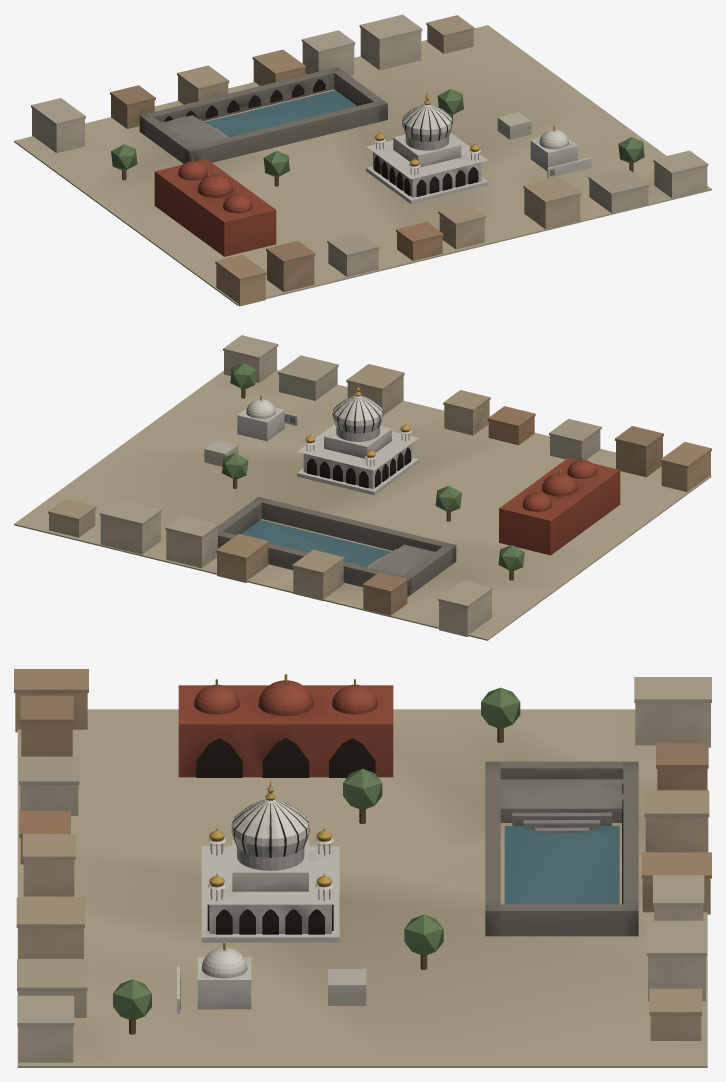
The model's file is nizamuddin.glb.
The picture shows the model from 3 angles, top to bottom: view 1: azimuth 30°, elevation 25°; view 2: azimuth 150°, elevation 25°; view 3: azimuth 270°, elevation 25°; orthographic projection. The views are drawn at different scales.
Visible parts, largest first — view 1: p0_court, p2_tomb, p1_mosque, p3_domes; view 2: p0_court, p2_tomb, p1_mosque, p3_domes; view 3: p0_court, p2_tomb, p1_mosque, p3_domes.
Boxes of the visible parts, <box> form: p0_court: <box>14,14,711,306</box>; p2_tomb: <box>111,89,644,203</box>; p1_mosque: <box>154,159,276,256</box>; p3_domes: <box>178,92,569,213</box>; p0_court: <box>14,335,711,640</box>; p2_tomb: <box>204,363,524,580</box>; p1_mosque: <box>499,457,620,555</box>; p3_domes: <box>246,384,596,511</box>; p0_court: <box>14,669,711,1067</box>; p2_tomb: <box>113,687,520,1034</box>; p1_mosque: <box>178,685,393,777</box>; p3_domes: <box>194,674,377,978</box>.
Size of the model in its own units: 110 by 19.54 by 91.01.
